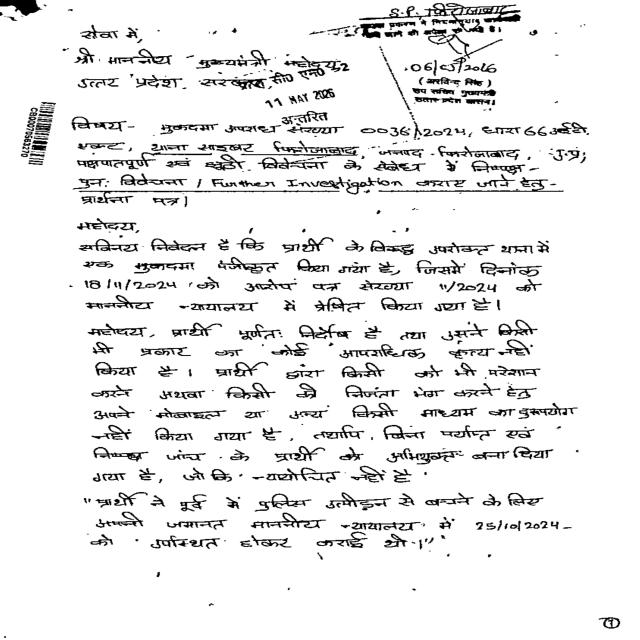barcode: (18, 97, 58, 169)
signnamestamp: (404, 35, 508, 109)
